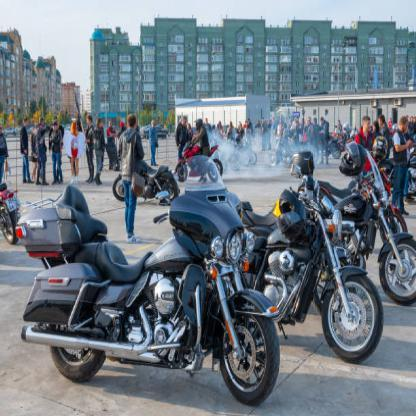Motorcycle: (20, 172, 280, 415), (238, 160, 386, 371), (325, 142, 416, 306)
